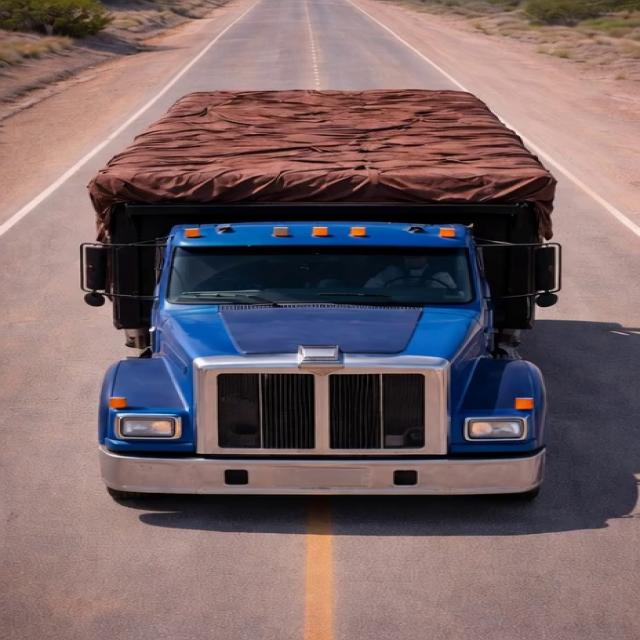trailer: (93, 87, 555, 186)
truck: (64, 63, 585, 512)
